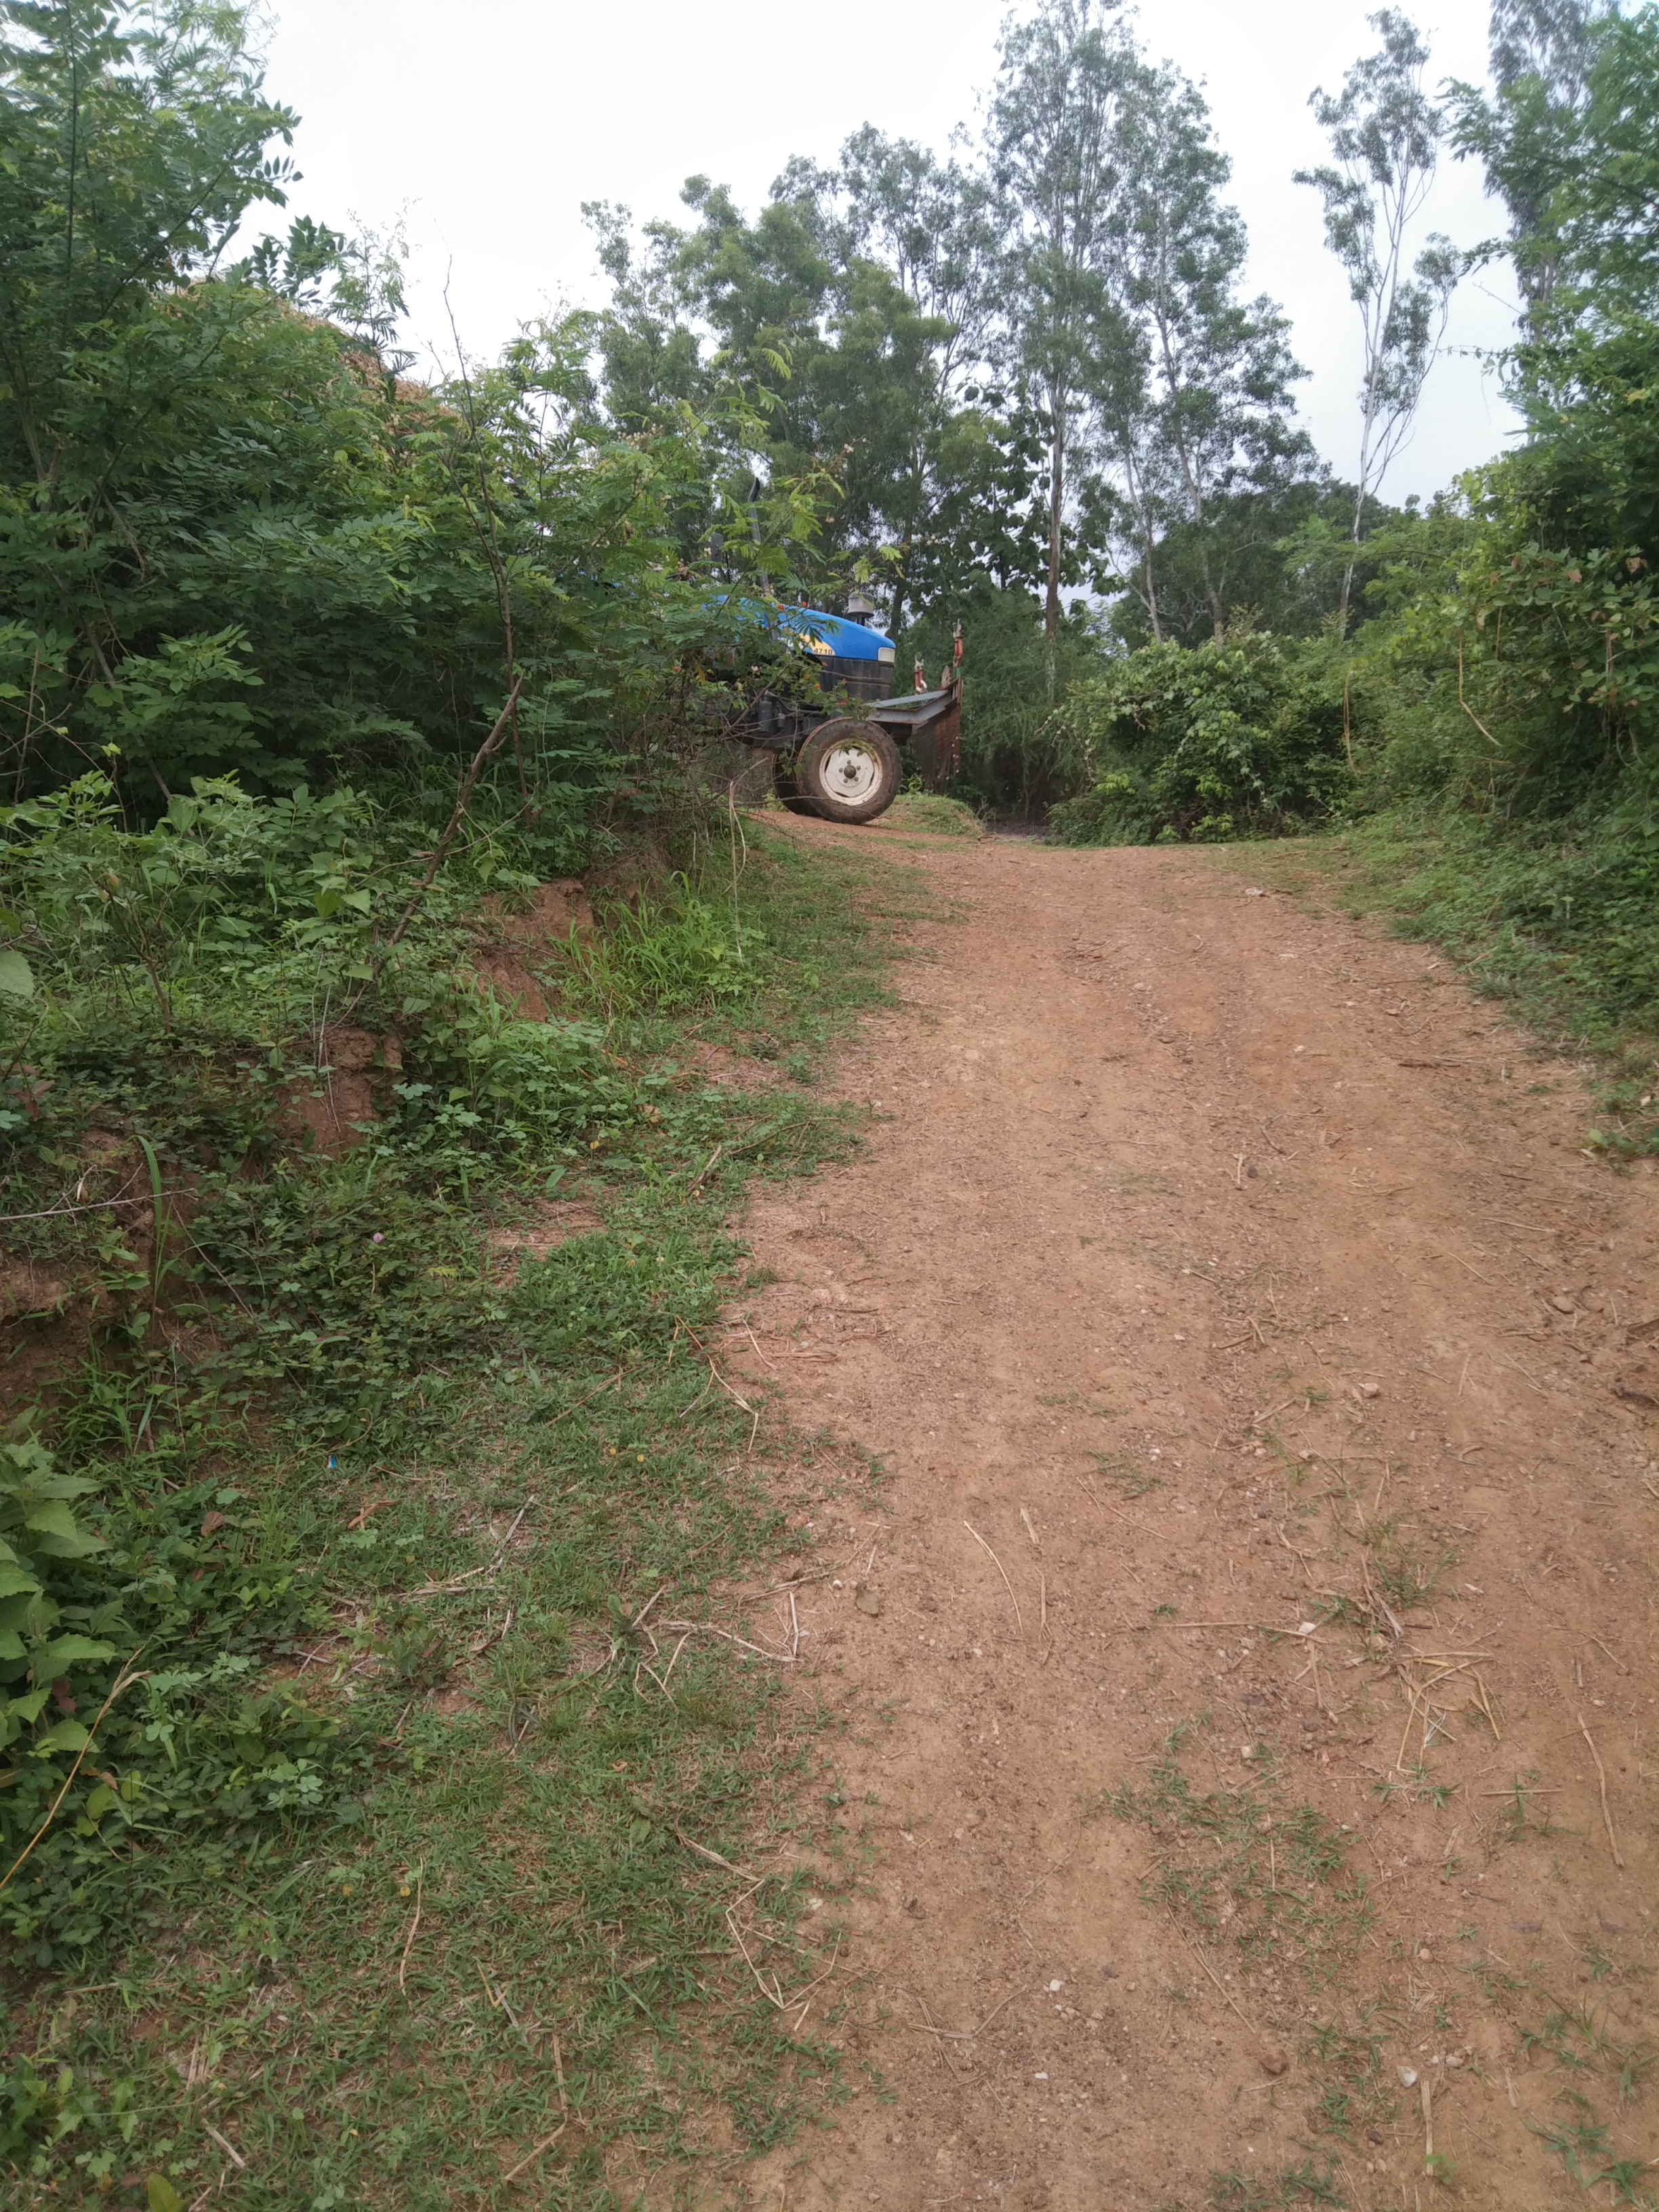tractor: (582, 475, 967, 827)
